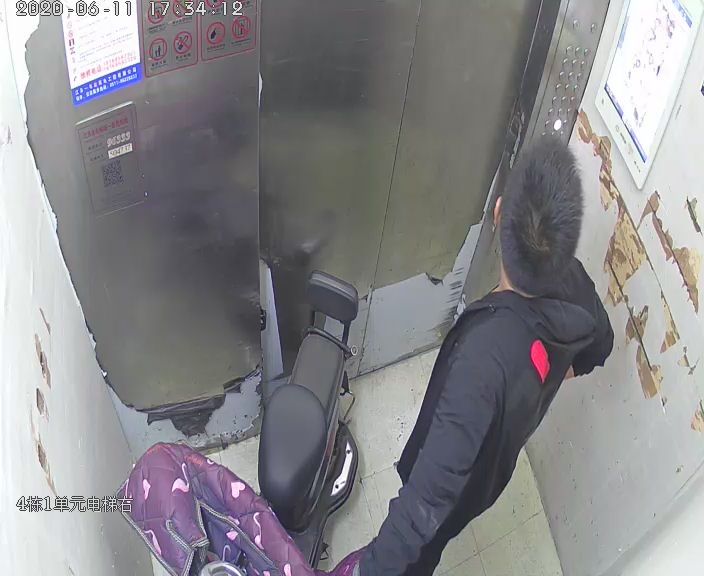Electric-bicycle: (128, 272, 357, 576)
